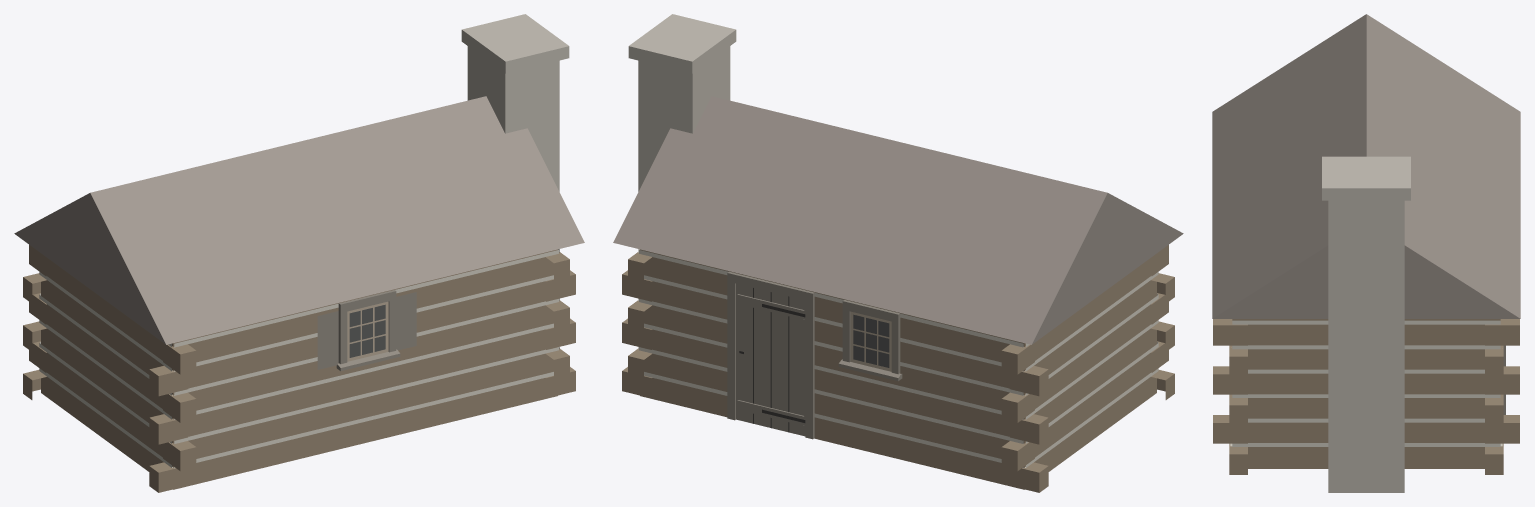
File: ouilmette_house_1812__ouilmette_1812.glb
3 renders of one model, left to right at view 1: azimuth 30°, elevation 25°; view 2: azimuth 150°, elevation 25°; view 3: azimuth 270°, elevation 25°, orthographic.
Parts seen in each view (by area): view 1: ouilmette_house_1812__ouilmette_1812; view 2: ouilmette_house_1812__ouilmette_1812; view 3: ouilmette_house_1812__ouilmette_1812.
Part boxes in pixels (left/top/right/bottom): ouilmette_house_1812__ouilmette_1812: left=14, top=14, right=584, bottom=492; ouilmette_house_1812__ouilmette_1812: left=613, top=14, right=1183, bottom=492; ouilmette_house_1812__ouilmette_1812: left=1212, top=14, right=1520, bottom=492.
Size of the model in its own units: 6.74 by 4.28 by 3.88.
